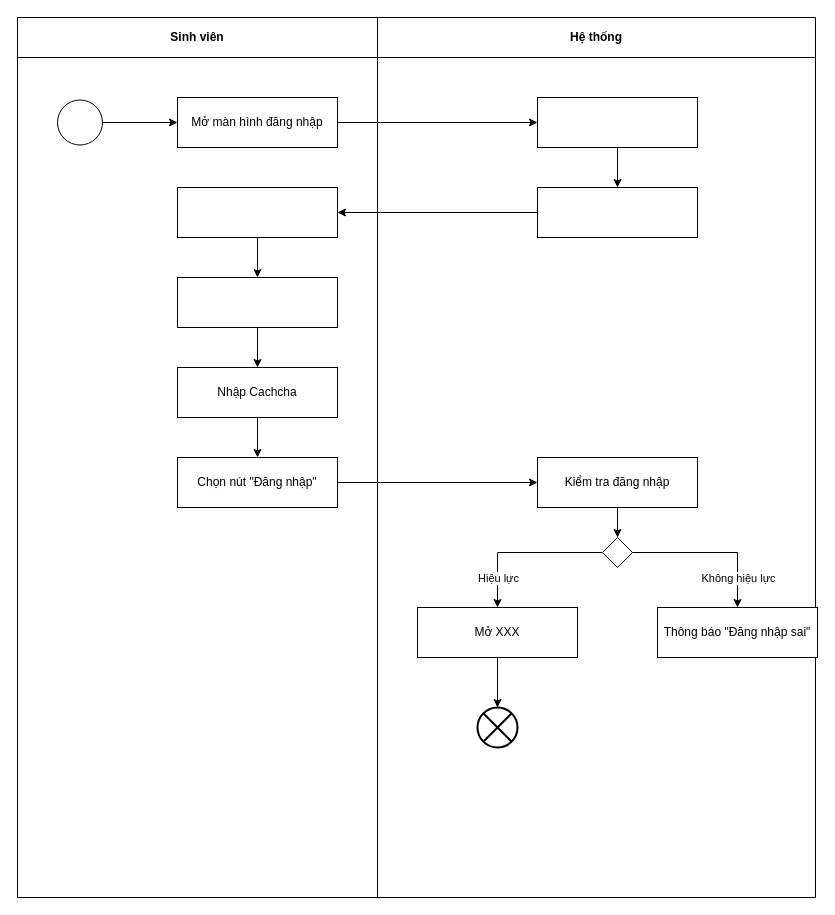
Some shapes in this 835 by 915 pixel diagram are drawn without their labels. Each missing label, with the box of its shape:
Hệ thống mở ĐV: (536, 186, 698, 238)
Nhập mã sinh viên: (176, 186, 338, 238)
Nhập mật khẩu: (176, 276, 338, 328)
Sinh Capcha: (536, 96, 698, 148)
